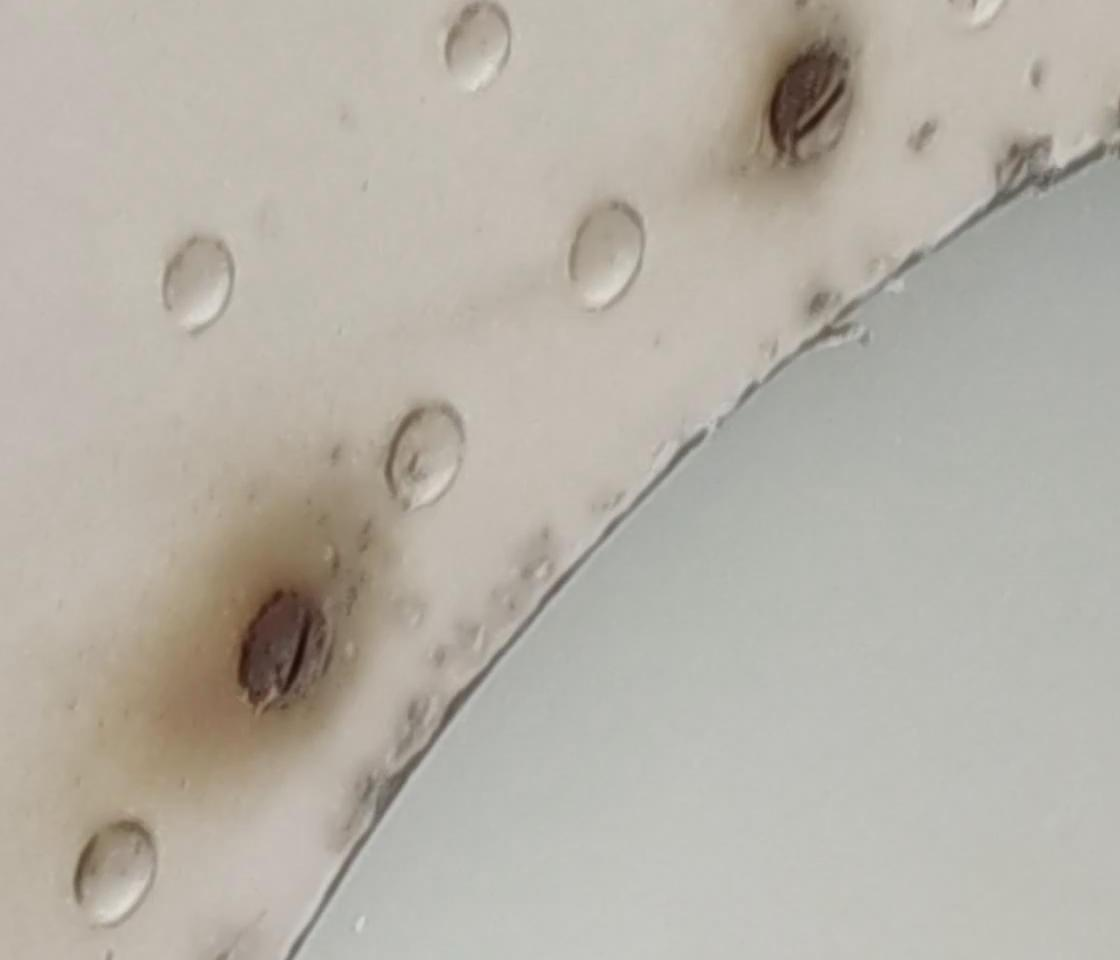rust: (177, 567, 320, 755), (754, 34, 843, 139)
